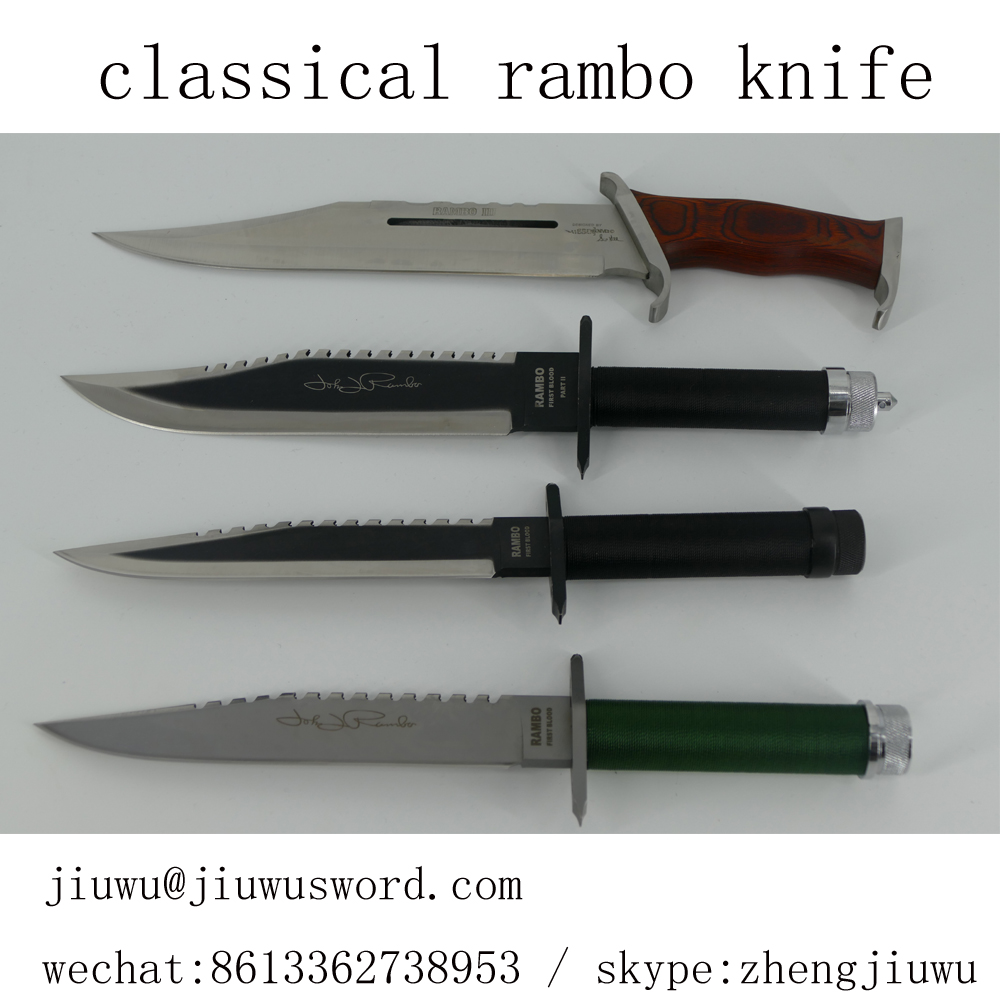knief: (13, 666, 934, 800), (84, 182, 932, 324), (53, 356, 928, 465), (48, 509, 898, 591)
